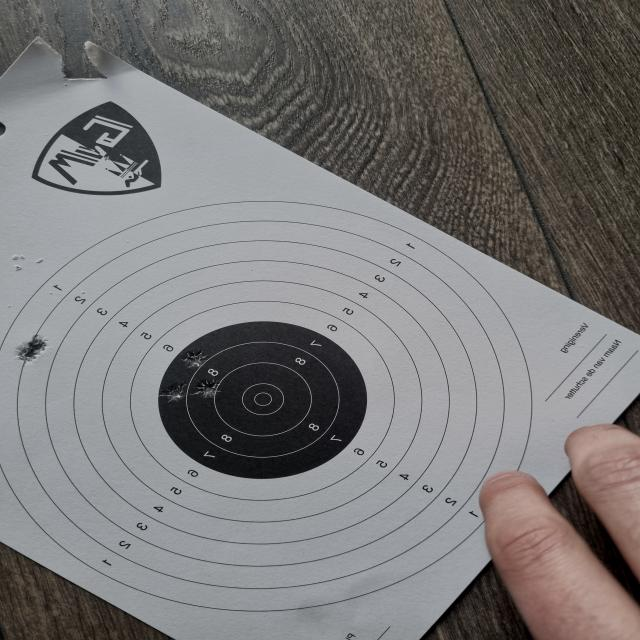2: (27, 336, 50, 352), (16, 347, 38, 363)
7: (159, 381, 187, 403), (181, 349, 207, 367)
9: (191, 379, 221, 398)
Target: (0, 199, 534, 615)
black_contour: (156, 318, 372, 480)
